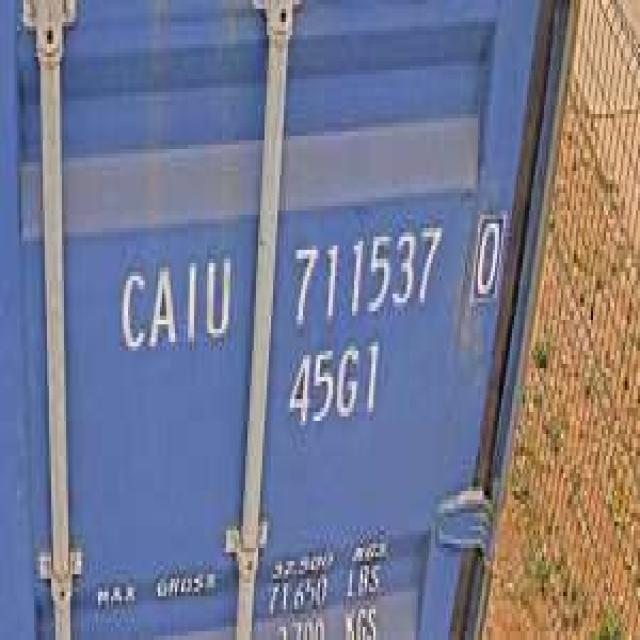dv: (467, 197, 506, 307)
owner: (109, 241, 237, 360)
serial: (286, 215, 446, 329)
size: (281, 333, 382, 430)
